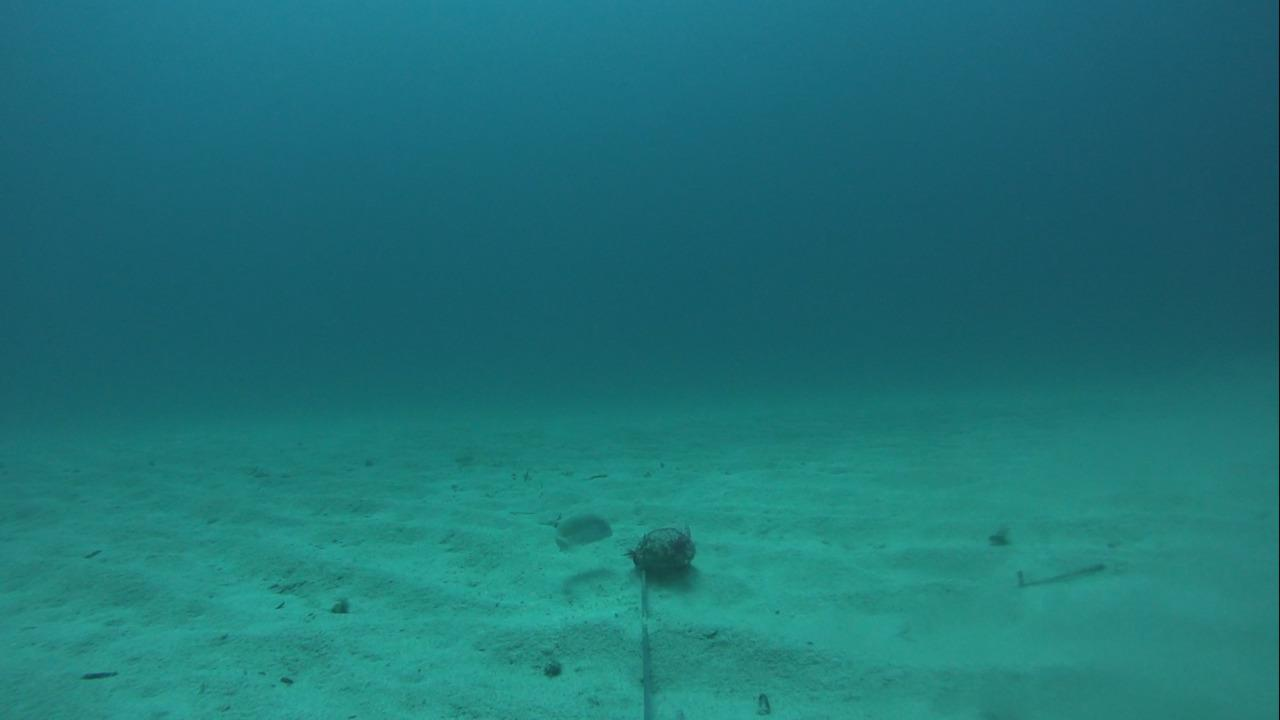raor: (547, 503, 616, 554)
